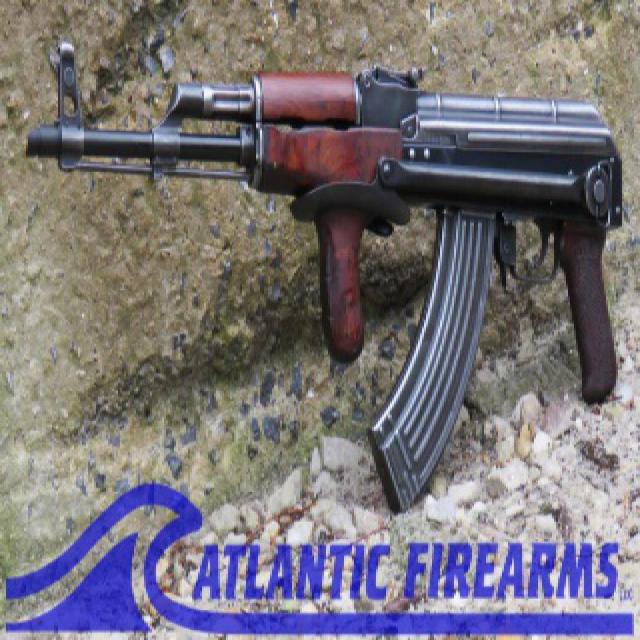long weapon: (28, 27, 628, 509)
